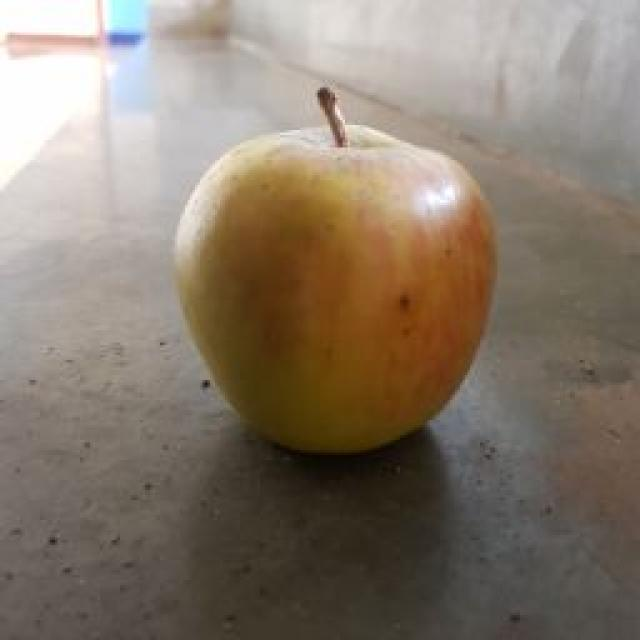Good_Apple: (175, 88, 496, 453)
